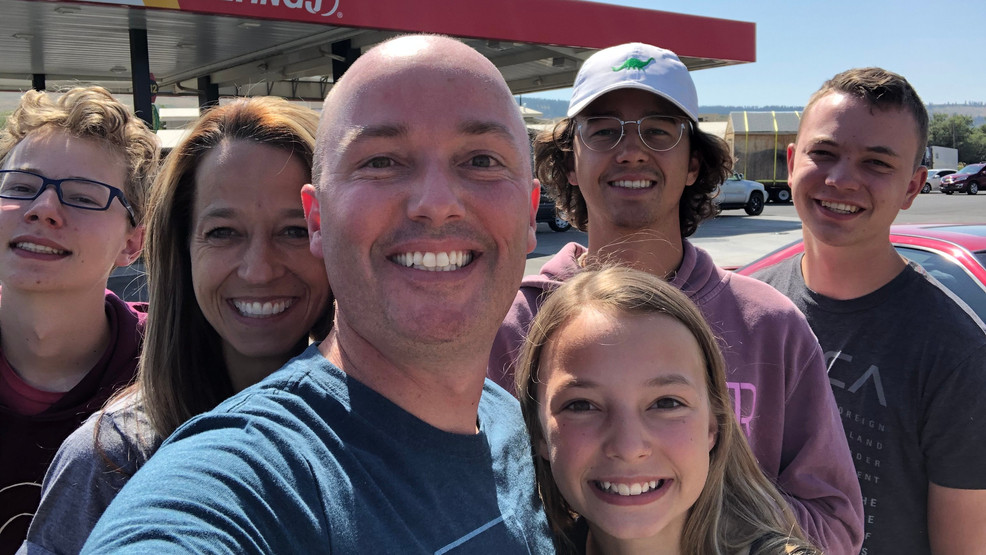without_mask: (337, 63, 512, 343), (542, 313, 700, 523), (183, 138, 323, 336), (579, 81, 686, 232), (11, 131, 111, 285), (806, 94, 894, 246)
